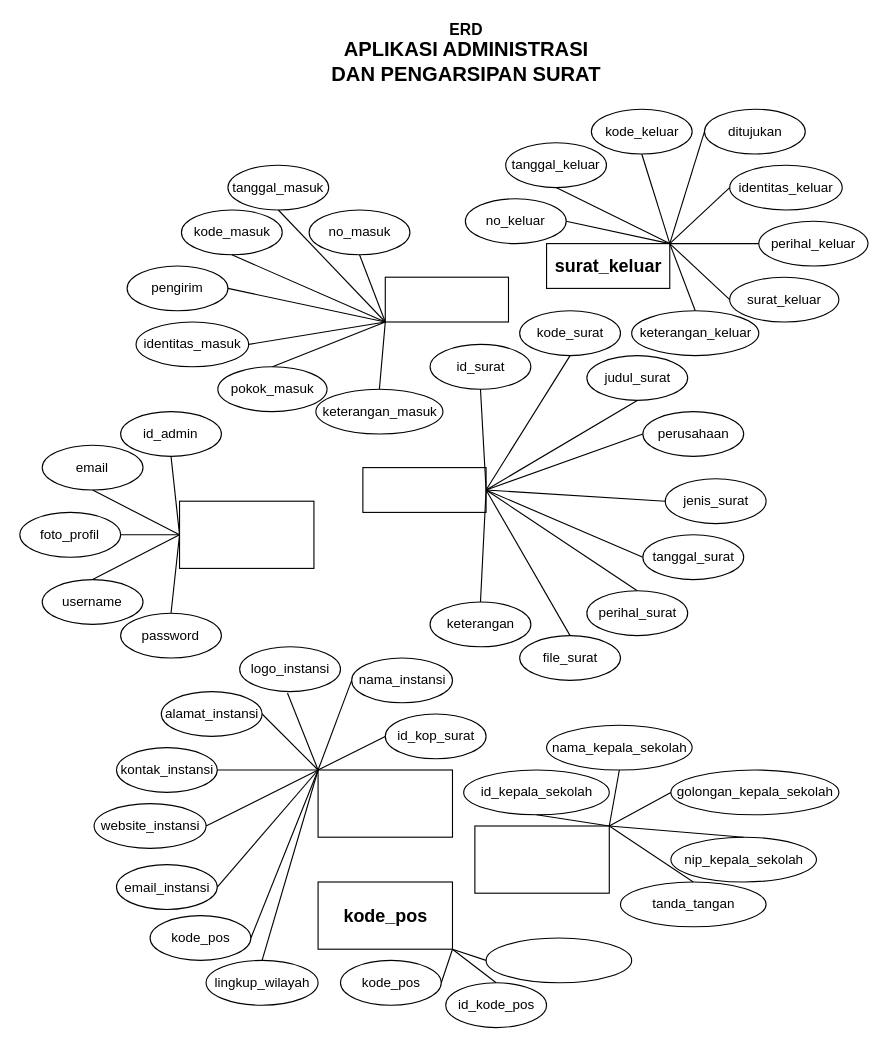
The diagram is 888 pixels wide and 1047 high, and some of its shapes have lost their labels. The centre of each missing label's shape, as x and y in pixels:
arsip: pixel 424 489
kepala_sekolah: pixel 541 859
keterangan_kode_pos: pixel 558 960
kop_surat: pixel 384 803
surat_masuk: pixel 446 299
users: pixel 246 534
